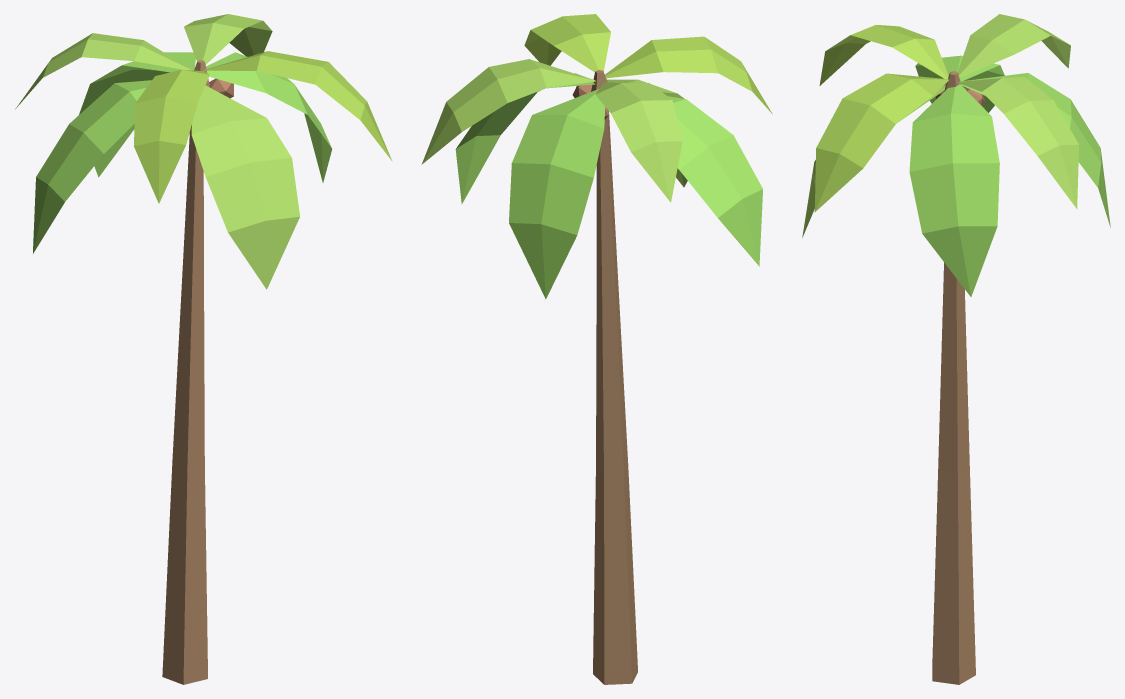
File: Palm_Tree_Coconut_OneSided_m_01_LOD.fbx
The picture shows the model from 3 angles, left to right: view 1: azimuth 30°, elevation 25°; view 2: azimuth 150°, elevation 25°; view 3: azimuth 270°, elevation 25°; orthographic projection.
Parts seen in each view (by area): view 1: Palm_Tree_Coconut_OneSided_m_01_LOD0; view 2: Palm_Tree_Coconut_OneSided_m_01_LOD0; view 3: Palm_Tree_Coconut_OneSided_m_01_LOD0.
Part boxes in pixels (x1,y1,x2,y2): Palm_Tree_Coconut_OneSided_m_01_LOD0: (15, 14, 392, 684); Palm_Tree_Coconut_OneSided_m_01_LOD0: (421, 14, 772, 684); Palm_Tree_Coconut_OneSided_m_01_LOD0: (802, 14, 1110, 684).
Size of what is drawn, in the model's own units: 298 by 601 by 269.
